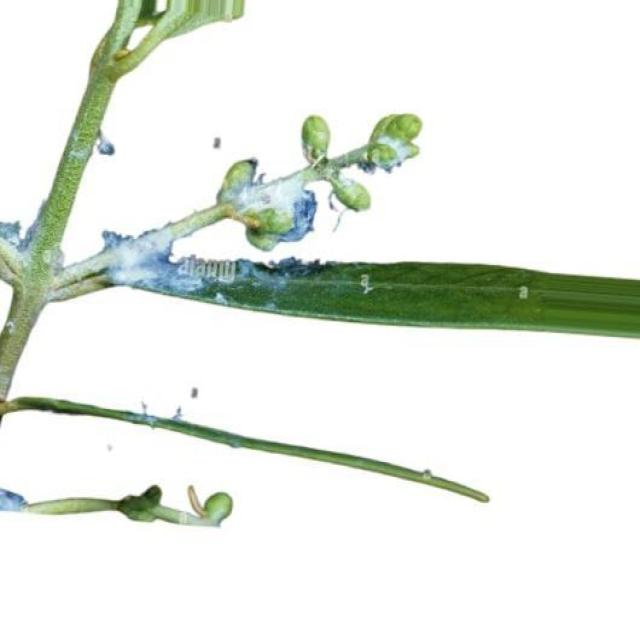Psyllid: (217, 113, 421, 251), (99, 223, 254, 304)
